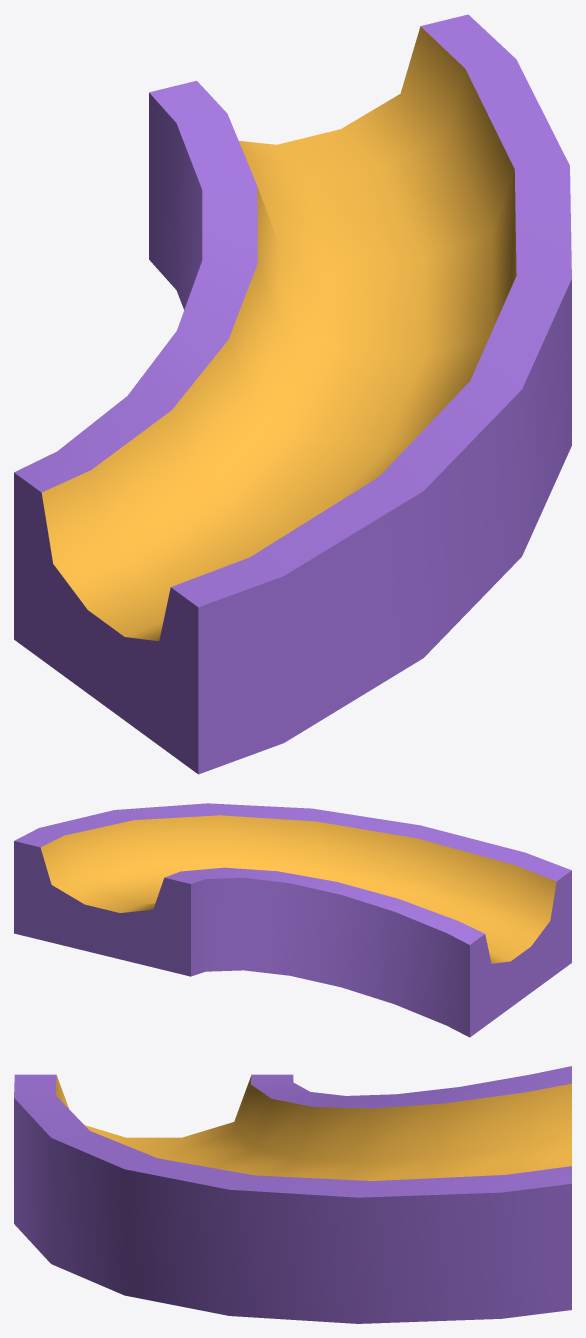
Rendered from helix-quarter-left.glb.
3 renders of one model, top to bottom at view 1: azimuth 30°, elevation 25°; view 2: azimuth 150°, elevation 25°; view 3: azimuth 270°, elevation 25°, orthographic. The views are drawn at different scales.
Visible parts, largest first — view 1: helix-quarter-left; view 2: helix-quarter-left; view 3: helix-quarter-left.
Part boxes in pixels (x1,y1,x2,y2): helix-quarter-left: [14, 14, 571, 774]; helix-quarter-left: [14, 803, 571, 1037]; helix-quarter-left: [14, 1066, 571, 1323].
Bounding box in the file's own units: 2 × 1 × 2.
1 material, 1 textured.
